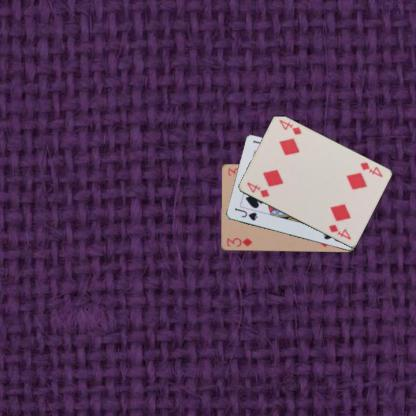3d: (224, 235, 254, 249)
4d: (357, 160, 384, 178), (244, 180, 270, 198)
Js: (232, 205, 259, 222)
